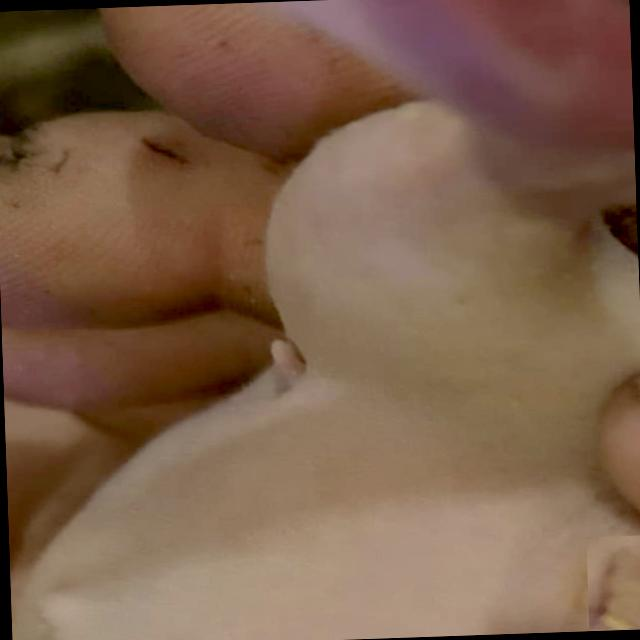fem: (585, 535, 640, 628)
